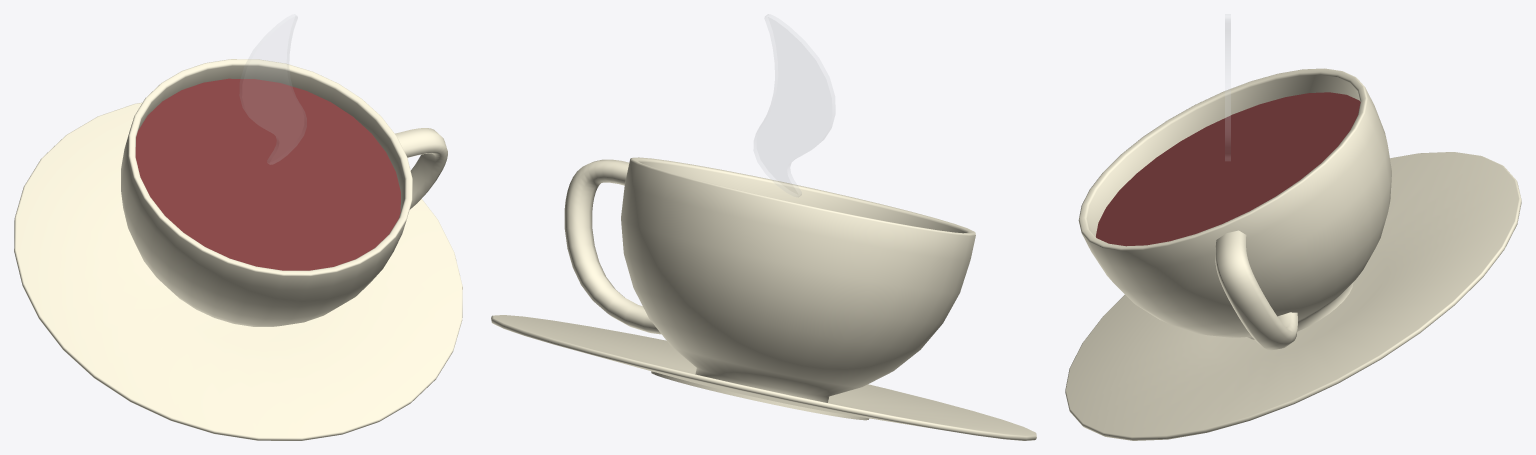
Rendered from hot_beverage.glb.
3 renders of one model, left to right at view 1: azimuth 30°, elevation 25°; view 2: azimuth 150°, elevation 25°; view 3: azimuth 270°, elevation 25°, orthographic. The views are drawn at different scales.
Parts seen in each view (by area): view 1: Circle.2268; view 2: Circle.2268; view 3: Circle.2268.
Boxes of the visible parts, x1,y1,x2,y2 form: Circle.2268: [14, 14, 462, 440]; Circle.2268: [491, 14, 1036, 440]; Circle.2268: [1065, 14, 1521, 440].
Bounding box in the file's own units: 2.3 × 1.97 × 2.08.
2 materials, 1 textured.
